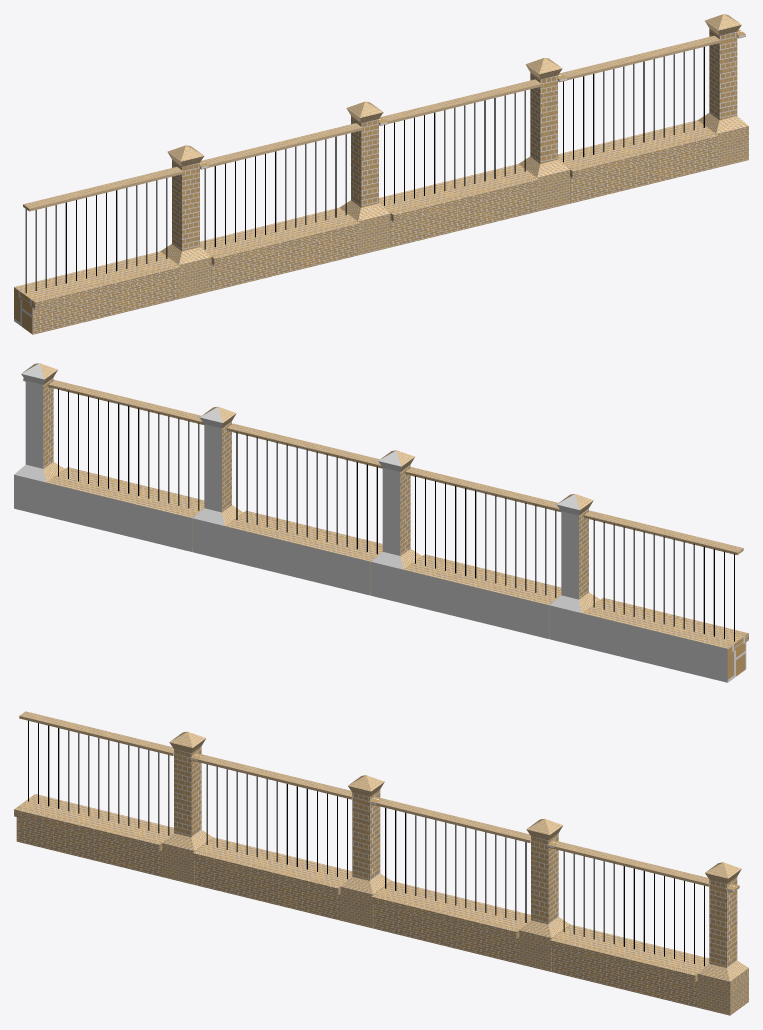
The model's file is fence.glb.
3 renders of one model, top to bottom at view 1: azimuth 30°, elevation 25°; view 2: azimuth 150°, elevation 25°; view 3: azimuth 330°, elevation 25°, orthographic.
Parts seen in each view (by area): view 1: Cube; view 2: Cube; view 3: Cube.
Boxes of the visible parts, x1,y1,x2,y2 form: Cube: [14, 14, 748, 334]; Cube: [14, 363, 748, 682]; Cube: [14, 711, 748, 1015].
Size of the model in its own units: 43.98 by 8.38 by 2.27.
Materials: 3 (1 with a texture image).
